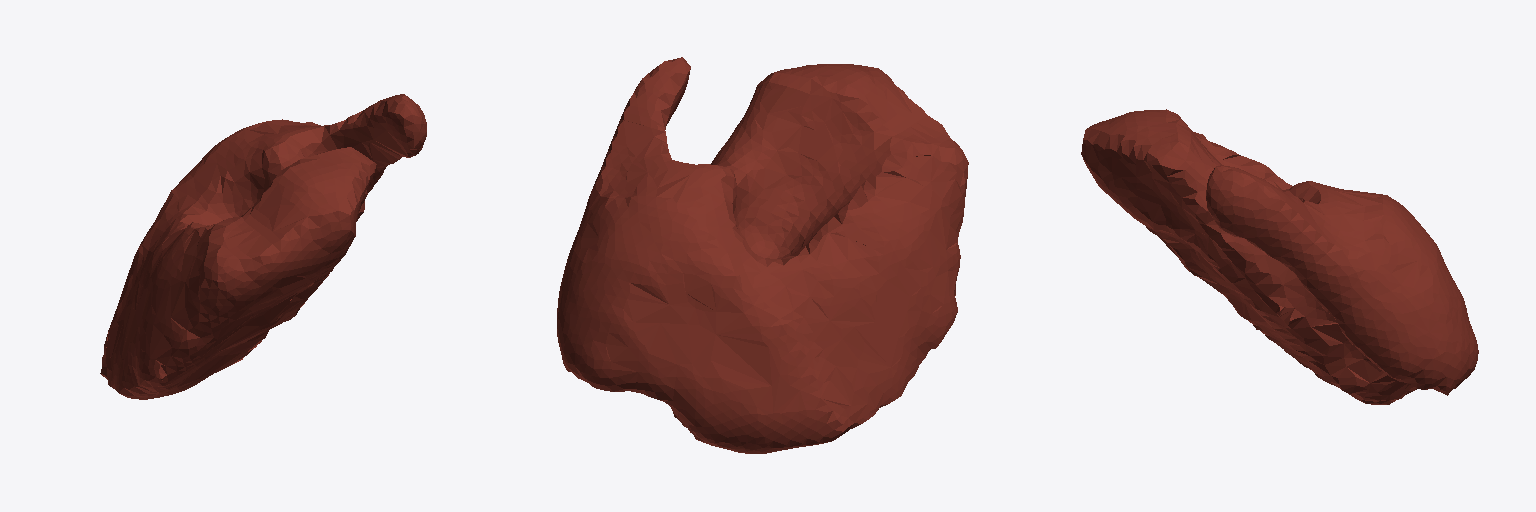
The model's file is Model_10509_LH__Pontine_nuclei_(Pn).obj.
The picture shows the model from 3 angles: view 1: azimuth 30°, elevation 25°; view 2: azimuth 150°, elevation 25°; view 3: azimuth 270°, elevation 25°; orthographic projection.
Size of the model in its own units: 2.8 by 2.69 by 3.28.